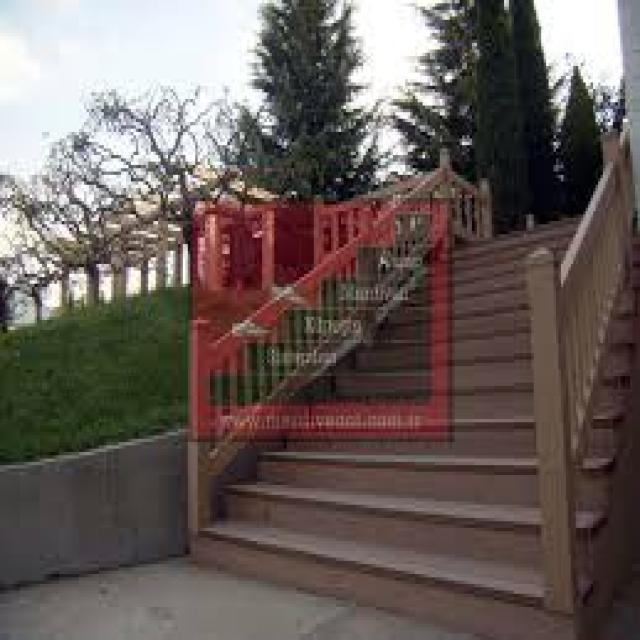stair: (214, 189, 626, 595)
